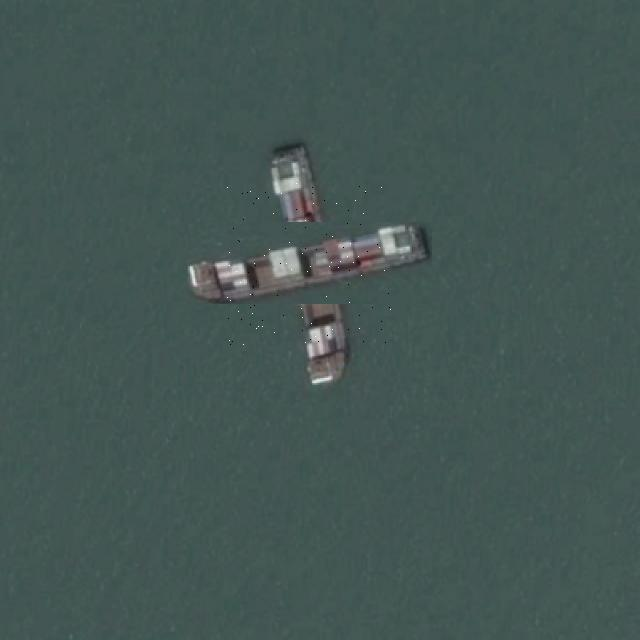boat: (227, 181, 391, 345)
